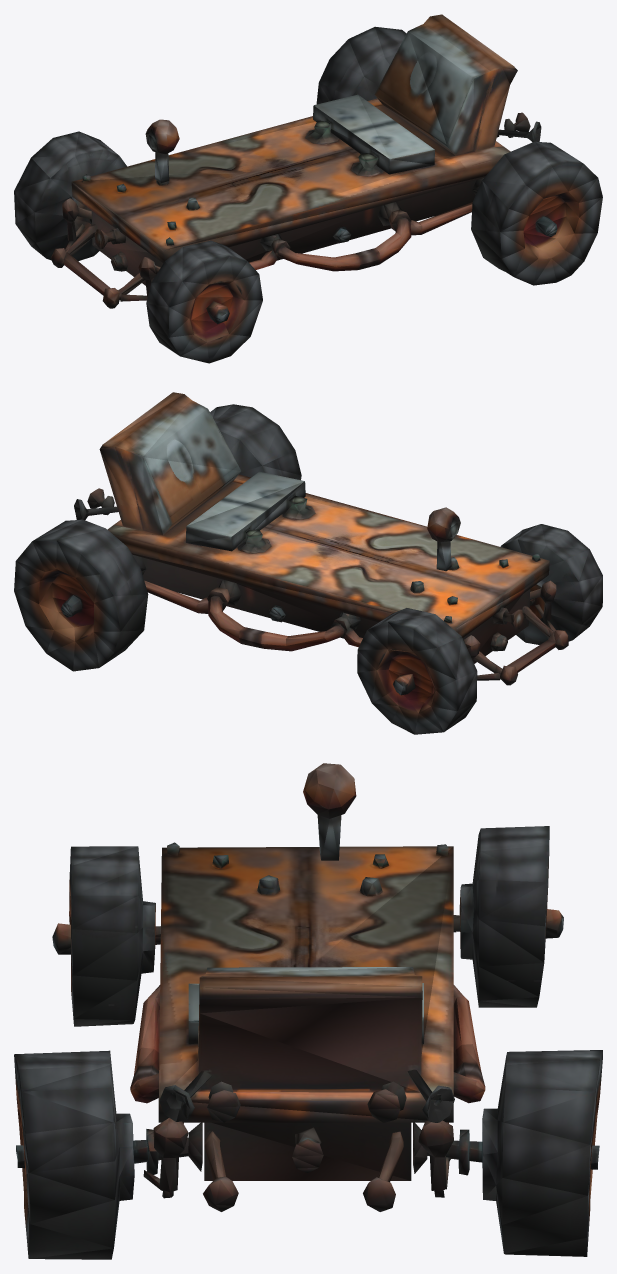
The model's file is chassis_plank.glb.
3 renders of one model, top to bottom at view 1: azimuth 30°, elevation 25°; view 2: azimuth 150°, elevation 25°; view 3: azimuth 270°, elevation 25°, orthographic. The views are drawn at different scales.
Visible parts, largest first — view 1: tripo_node_98bac20d-bf62-42f0-bee6-dad48e46edc8; view 2: tripo_node_98bac20d-bf62-42f0-bee6-dad48e46edc8; view 3: tripo_node_98bac20d-bf62-42f0-bee6-dad48e46edc8.
Boxes of the visible parts, x1,y1,x2,y2 form: tripo_node_98bac20d-bf62-42f0-bee6-dad48e46edc8: (14,14,602,363); tripo_node_98bac20d-bf62-42f0-bee6-dad48e46edc8: (14,392,602,734); tripo_node_98bac20d-bf62-42f0-bee6-dad48e46edc8: (14,763,602,1259).
Size of the model in its own units: 1 by 0.4009 by 0.7331.
1 material, 1 textured.
